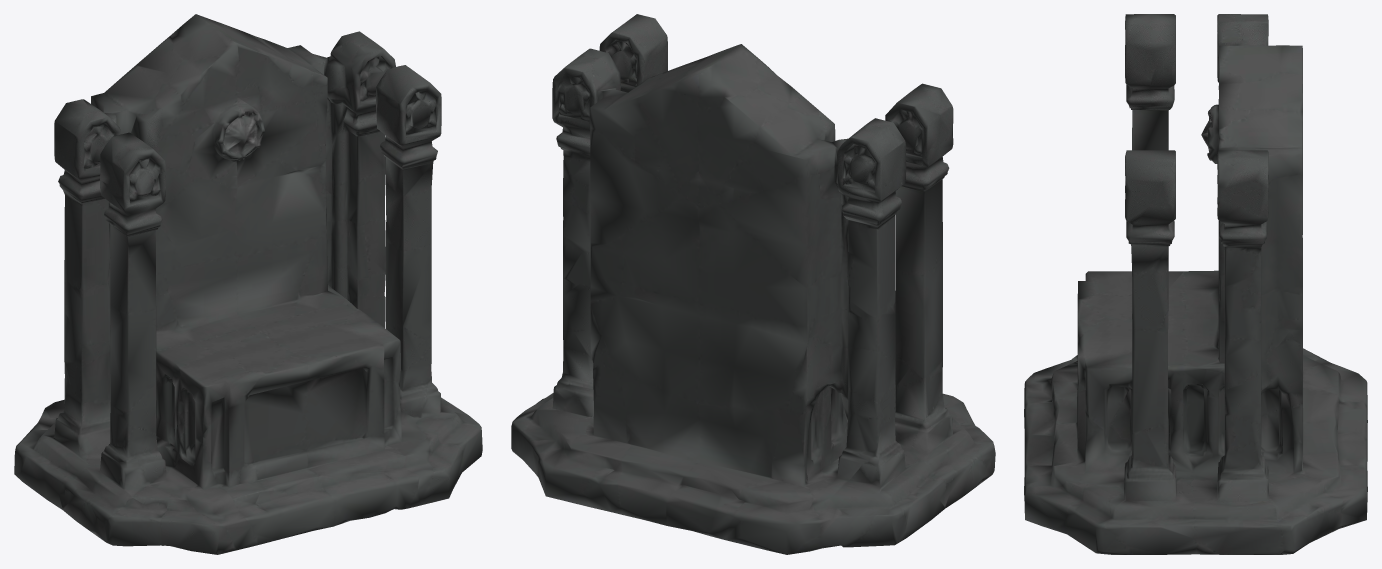
The model's file is stone-throne.glb.
3 views of the same model, side by side, from view 1: azimuth 30°, elevation 25°; view 2: azimuth 150°, elevation 25°; view 3: azimuth 270°, elevation 25° (orthographic). The views are drawn at different scales.
Bounding box in the file's own units: 1.81 × 1.9 × 1.42.
1 material, 1 textured.
